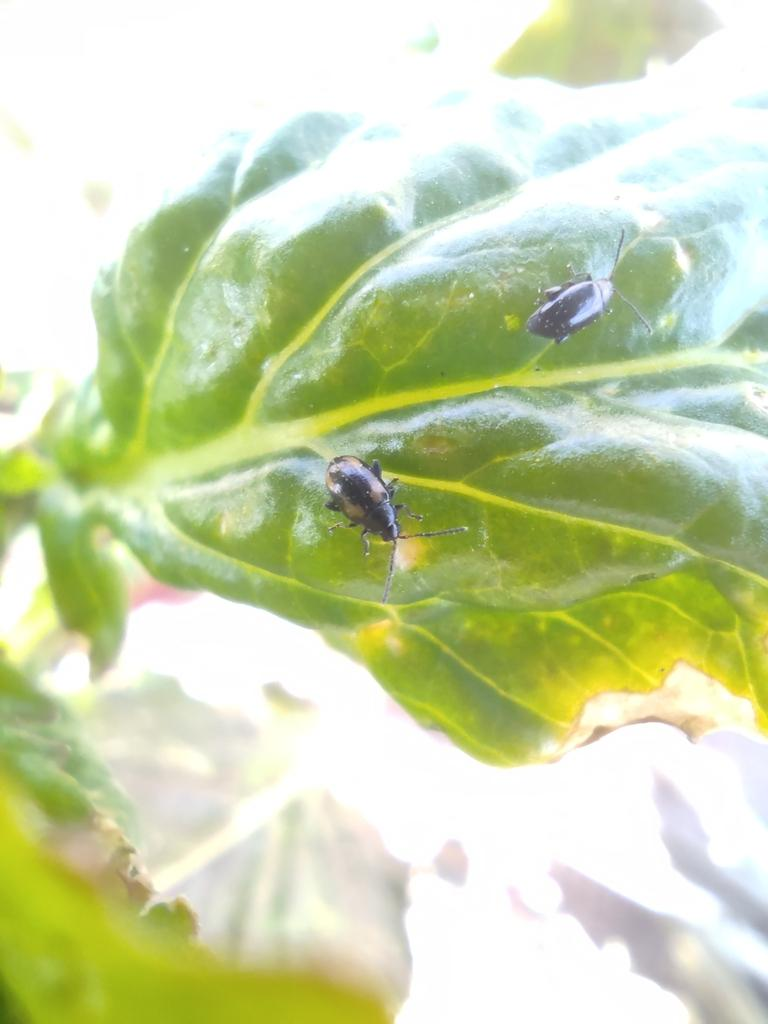flea_beetle: (294, 434, 490, 626), (505, 201, 690, 401)
